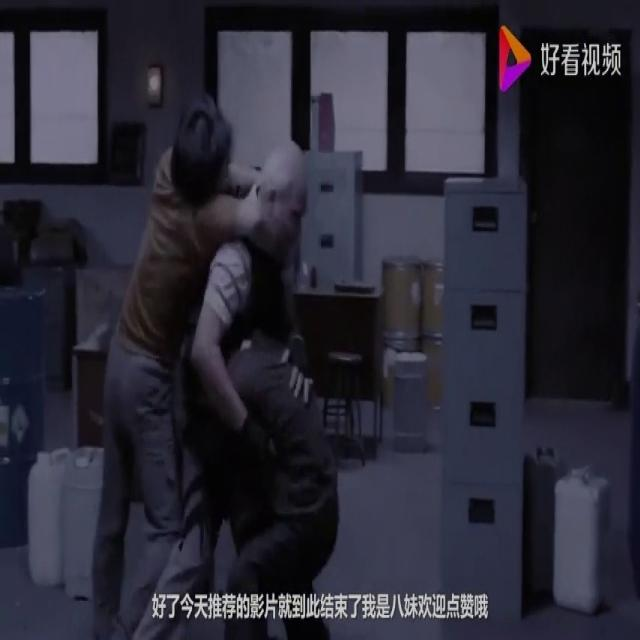fight: (82, 92, 343, 640)
